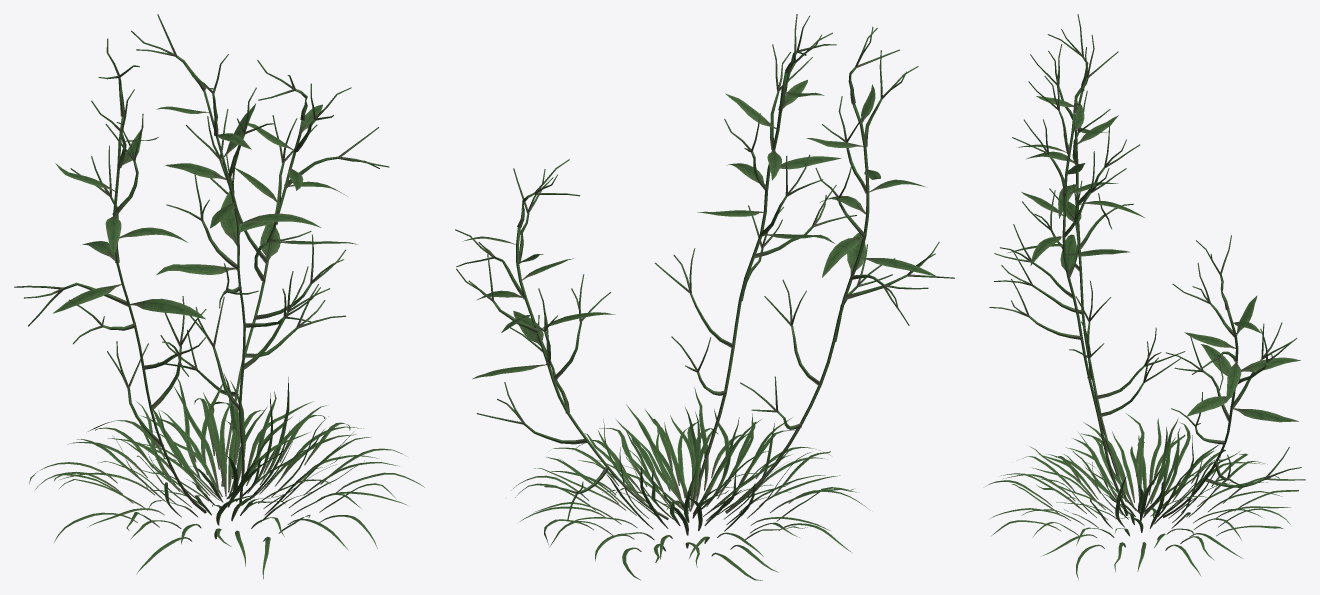
The model's file is flowers_tall_stems.glb.
The picture shows the model from 3 angles, left to right: view 1: azimuth 30°, elevation 25°; view 2: azimuth 150°, elevation 25°; view 3: azimuth 270°, elevation 25°; orthographic projection. The views are drawn at different scales.
Visible parts, largest first — view 1: stems; view 2: stems; view 3: stems.
Part boxes in pixels (<box>): stems: <box>14,14,424,579</box>; stems: <box>455,14,954,580</box>; stems: <box>985,14,1305,580</box>.
Bounding box in the file's own units: 2.39 × 2.84 × 1.88.
1 material, 1 textured.
